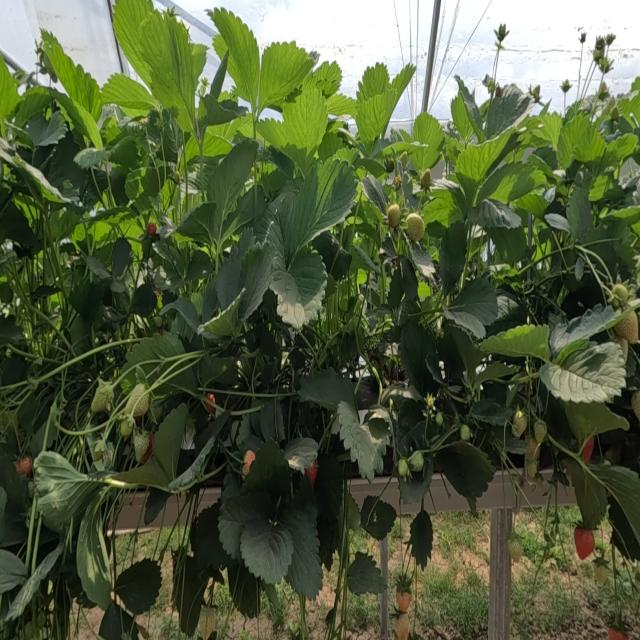Flowers: (560, 79, 571, 95)
Leaves: (140, 10, 201, 132), (291, 159, 358, 254), (41, 29, 99, 126), (541, 341, 625, 403), (280, 478, 322, 599), (0, 138, 78, 203), (207, 141, 256, 241), (7, 538, 66, 619), (212, 8, 259, 106), (456, 128, 515, 206), (171, 411, 228, 487), (593, 464, 639, 557), (272, 249, 327, 326), (35, 453, 89, 531), (338, 401, 389, 481), (283, 84, 327, 175), (123, 332, 189, 392), (259, 41, 313, 111), (77, 498, 111, 609), (243, 440, 291, 518), (113, 0, 153, 90), (218, 491, 271, 558), (436, 442, 494, 500), (314, 454, 343, 570), (383, 115, 443, 169), (241, 519, 291, 583), (551, 305, 615, 354), (445, 277, 498, 336), (563, 402, 629, 448), (215, 231, 253, 309), (478, 161, 546, 204), (190, 503, 233, 570), (173, 555, 209, 635), (565, 462, 607, 529), (400, 318, 435, 397), (153, 403, 188, 481), (484, 85, 533, 139), (115, 558, 161, 615), (260, 192, 296, 264), (0, 450, 27, 546), (556, 113, 602, 169), (238, 245, 272, 319), (480, 325, 550, 360), (299, 368, 355, 410), (199, 289, 245, 340), (101, 74, 157, 115), (227, 560, 264, 619), (580, 225, 618, 279), (357, 92, 396, 143), (486, 290, 527, 337), (257, 119, 297, 167), (448, 324, 481, 382), (313, 232, 351, 282), (228, 186, 267, 233), (147, 110, 182, 162), (440, 227, 467, 293), (413, 113, 443, 170), (0, 204, 38, 249), (69, 280, 103, 329), (347, 552, 385, 595), (399, 458, 433, 506), (177, 203, 215, 244), (25, 111, 67, 147), (422, 191, 465, 226), (31, 401, 58, 456), (489, 225, 527, 264), (14, 87, 52, 126), (455, 75, 482, 129), (397, 400, 426, 450), (468, 200, 521, 227), (600, 134, 636, 171), (568, 186, 593, 239), (357, 62, 390, 102), (410, 509, 432, 568), (162, 297, 199, 331), (364, 499, 395, 539), (1, 54, 18, 123), (1, 549, 27, 594), (390, 63, 416, 108), (202, 94, 238, 126), (187, 157, 218, 194), (208, 114, 252, 140), (284, 438, 318, 471), (125, 167, 160, 199), (312, 61, 342, 98), (471, 399, 511, 426), (259, 401, 284, 444), (110, 135, 137, 174), (362, 174, 387, 215), (153, 240, 182, 273), (451, 92, 471, 139), (259, 169, 288, 201), (210, 50, 228, 100), (199, 356, 232, 383), (99, 601, 122, 639), (201, 276, 220, 321), (0, 355, 28, 385), (400, 257, 418, 303), (411, 246, 435, 279), (133, 284, 157, 317), (203, 130, 232, 157), (190, 44, 208, 87), (74, 148, 110, 169), (353, 245, 380, 273), (187, 250, 212, 280), (152, 265, 182, 290), (318, 132, 343, 161), (112, 238, 131, 276), (325, 93, 355, 117), (541, 113, 562, 147), (0, 316, 22, 347), (388, 268, 404, 309), (402, 171, 419, 209), (83, 256, 110, 279), (350, 316, 363, 355), (367, 308, 389, 331), (544, 213, 570, 232), (380, 236, 397, 261), (184, 136, 199, 163)
Strawberries: (127, 384, 149, 416), (615, 313, 638, 343), (592, 40, 612, 74), (574, 526, 594, 559), (91, 383, 112, 413), (404, 213, 424, 240), (133, 432, 150, 463), (507, 535, 522, 563), (513, 410, 527, 437), (394, 613, 408, 639), (387, 204, 401, 227), (396, 591, 411, 612), (534, 420, 547, 444), (581, 438, 594, 462), (15, 457, 31, 475), (409, 451, 423, 471), (594, 564, 607, 584), (120, 418, 132, 437), (526, 436, 536, 457), (632, 389, 639, 419), (398, 458, 408, 476), (460, 424, 470, 441), (244, 451, 254, 468), (526, 461, 536, 478), (421, 172, 431, 188), (533, 475, 542, 489), (148, 221, 155, 236)
